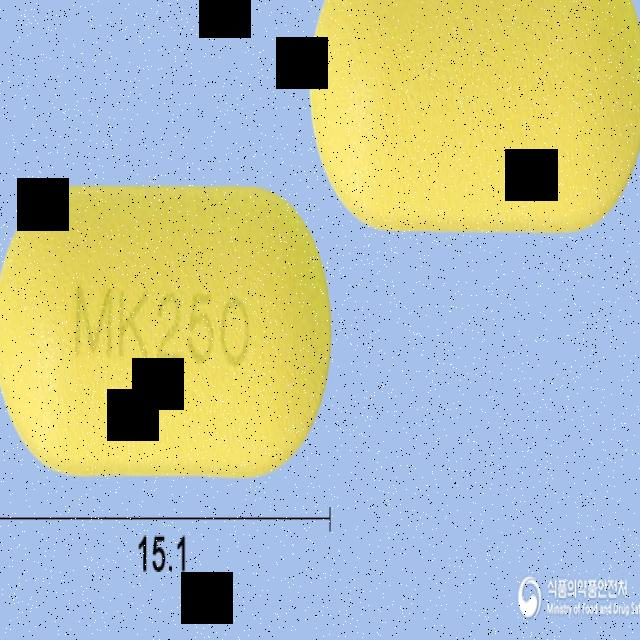Craycin - 500mg: (0, 183, 331, 477)
